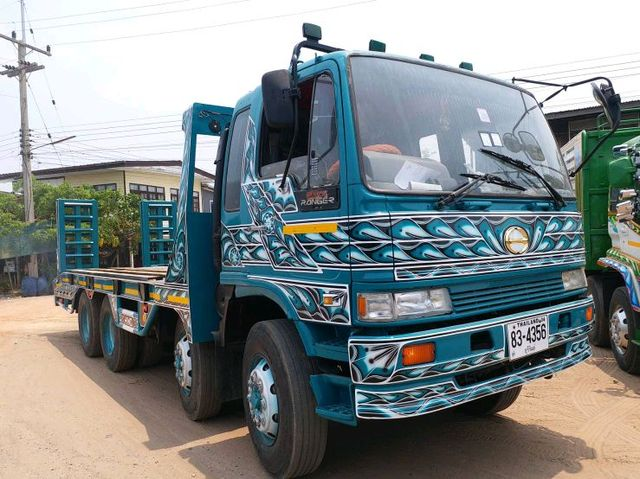truck: (179, 41, 596, 476)
